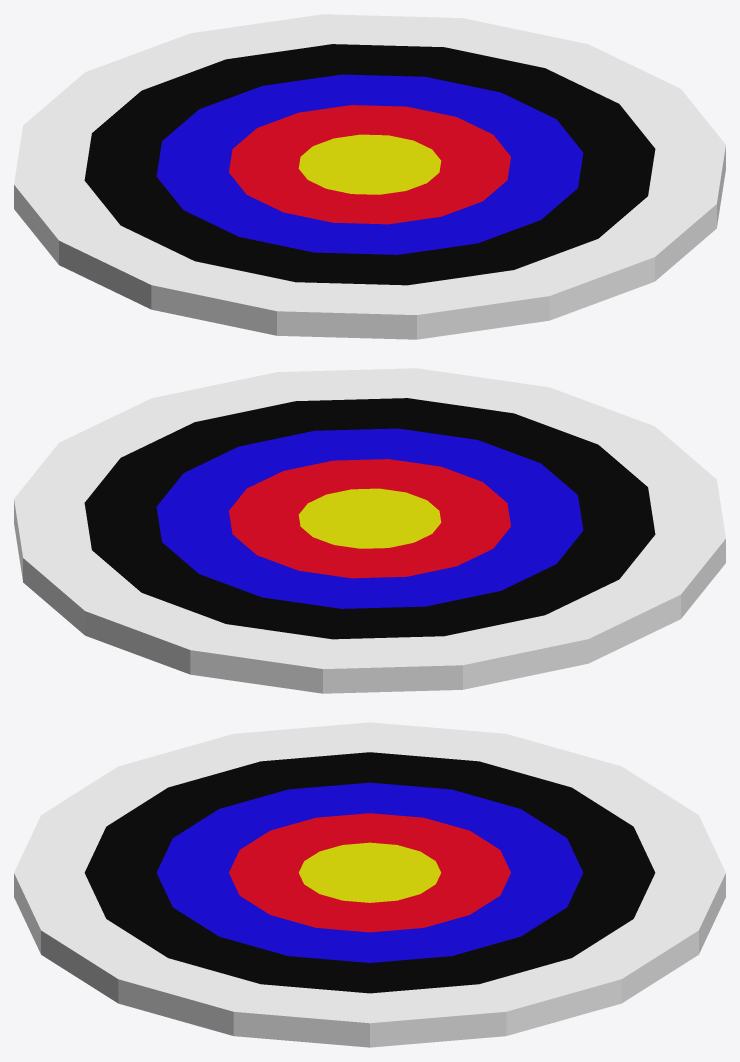
Rendered from target.fbx.
3 renders of one model, top to bottom at view 1: azimuth 30°, elevation 25°; view 2: azimuth 150°, elevation 25°; view 3: azimuth 270°, elevation 25°, orthographic.
Visible parts, largest first — view 1: Cylinder; view 2: Cylinder; view 3: Cylinder.
Part boxes in pixels (x1=…): Cylinder: x1=14, y1=14, x2=725, y2=339; Cylinder: x1=14, y1=368, x2=725, y2=693; Cylinder: x1=14, y1=722, x2=725, y2=1047.
Bounding box in the file's own units: 998 × 37.71 × 998.
